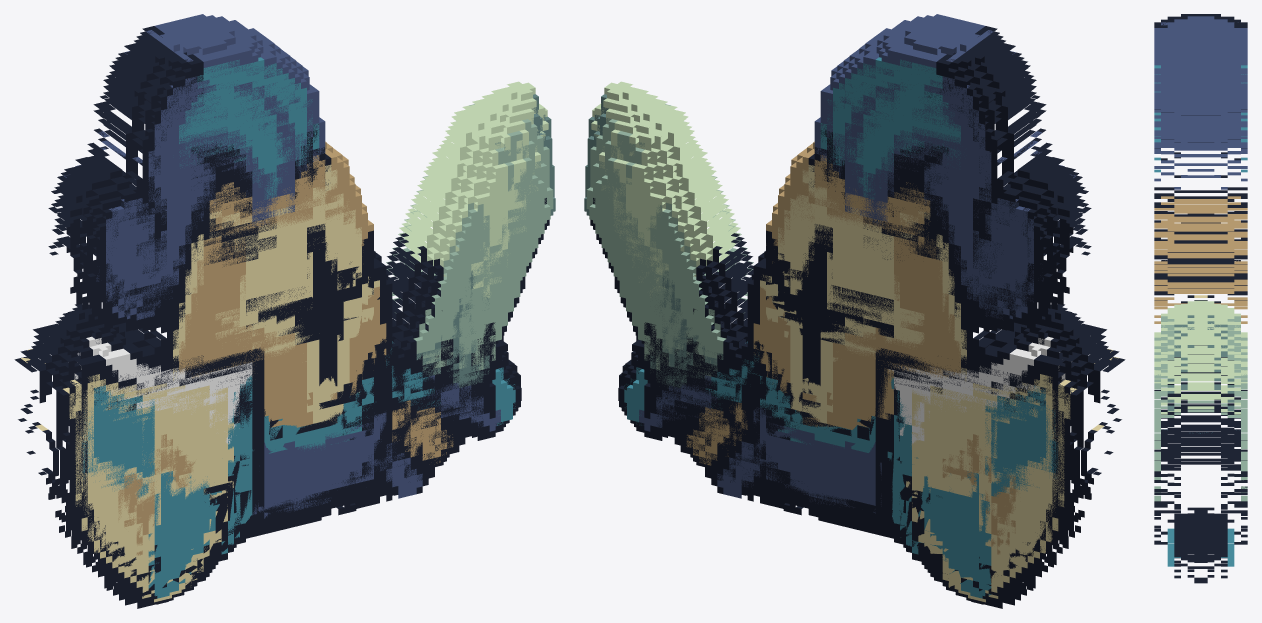
Rendered from guerreiro_parado.glb.
3 views of the same model, side by side, from view 1: azimuth 30°, elevation 25°; view 2: azimuth 150°, elevation 25°; view 3: azimuth 270°, elevation 25° (orthographic). The views are drawn at different scales.
Visible parts, largest first — view 1: q0, q2, q3, q1, q4, q5, q6, q7; view 2: q0, q2, q3, q1, q4, q6, q5, q7; view 3: q0, q2, q5, q1, q4, q3, q6, q7.
Part boxes in pixels (bbox=[...]): q0: bbox=[30, 14, 540, 569]; q2: bbox=[30, 38, 540, 580]; q3: bbox=[20, 80, 539, 588]; q1: bbox=[52, 26, 427, 441]; q4: bbox=[14, 82, 546, 607]; q5: bbox=[21, 81, 555, 608]; q6: bbox=[20, 61, 546, 605]; q7: bbox=[26, 38, 537, 589]; q0: bbox=[599, 14, 1109, 569]; q2: bbox=[599, 38, 1109, 577]; q3: bbox=[600, 82, 1119, 588]; q1: bbox=[711, 25, 1087, 439]; q4: bbox=[593, 87, 1125, 607]; q6: bbox=[593, 61, 1119, 605]; q5: bbox=[584, 85, 1118, 608]; q7: bbox=[602, 35, 1113, 589]; q0: bbox=[1154, 14, 1247, 583]; q2: bbox=[1154, 59, 1247, 554]; q5: bbox=[1154, 91, 1247, 578]; q1: bbox=[1154, 14, 1247, 375]; q4: bbox=[1154, 94, 1247, 572]; q3: bbox=[1154, 91, 1247, 563]; q6: bbox=[1154, 56, 1247, 566]; q7: bbox=[1154, 36, 1247, 342].
Size of the model in its own units: 84 by 87 by 14.
1 material, 1 textured.
